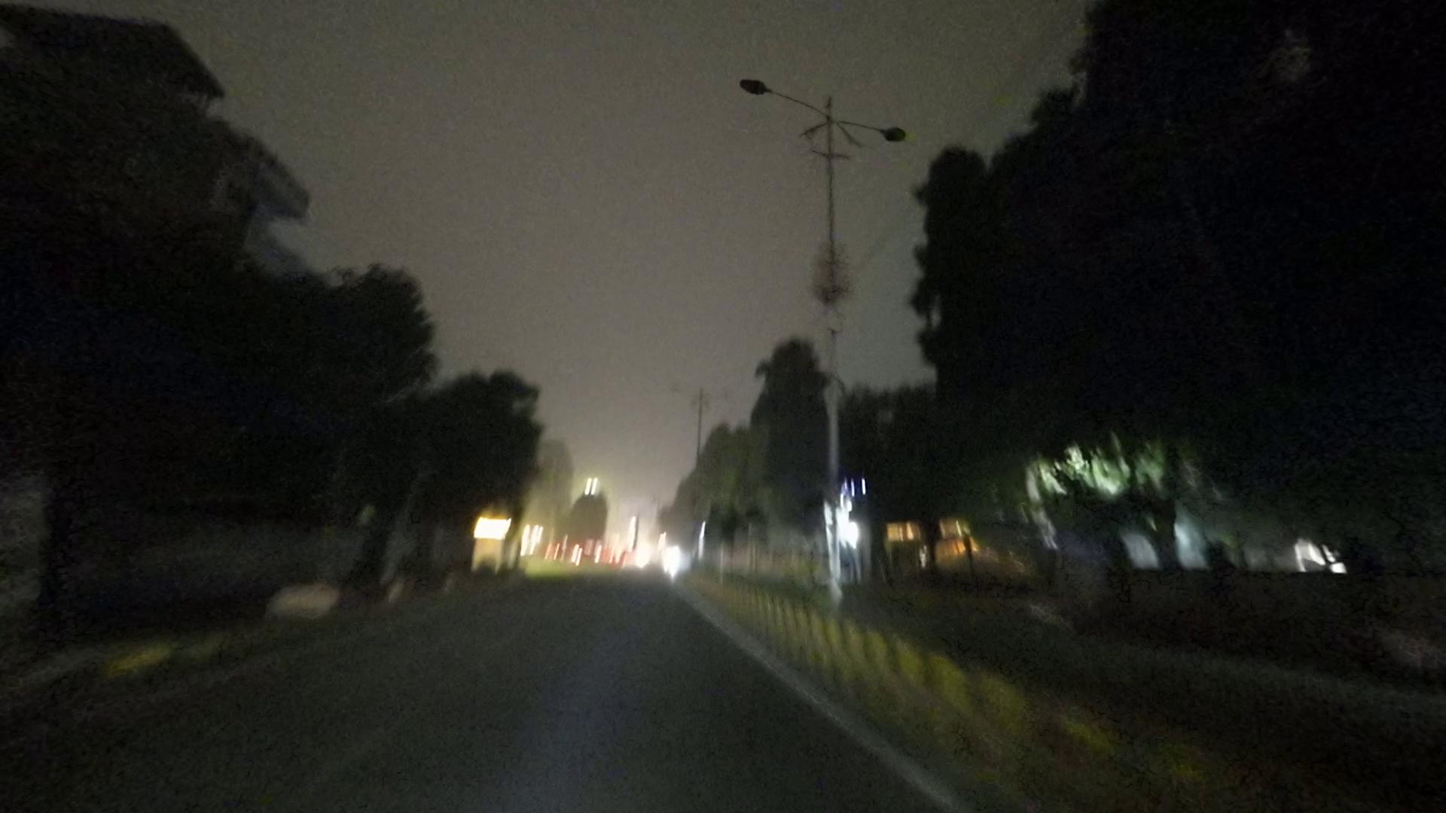streetlight: (737, 71, 825, 116), (847, 114, 913, 146)
